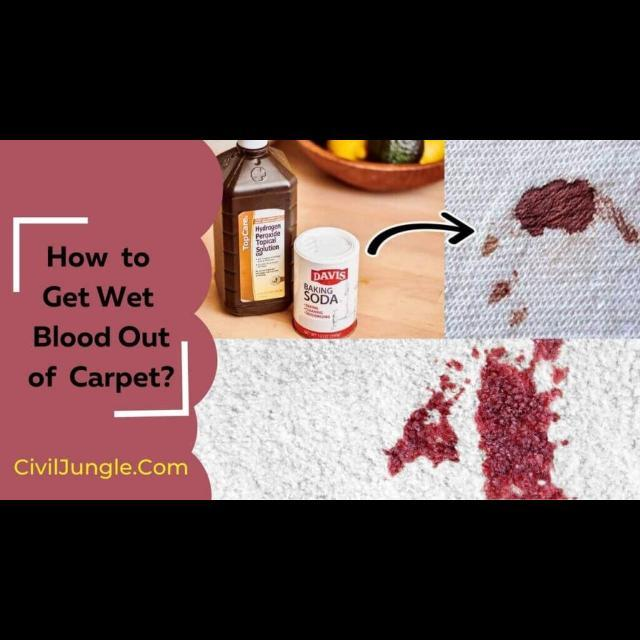blood: (474, 338, 568, 499), (381, 389, 460, 476), (513, 177, 602, 237), (486, 282, 511, 307), (482, 232, 499, 256)
